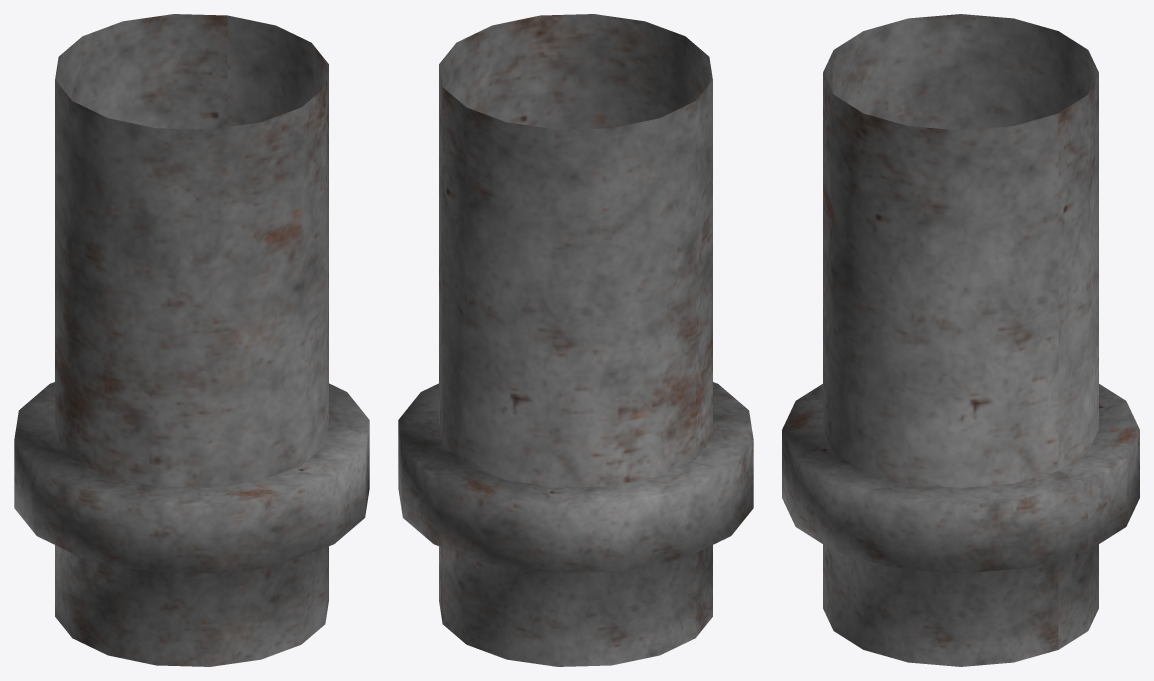
The model's file is grey_pipe1.fbx.
The picture shows the model from 3 angles, left to right: view 1: azimuth 30°, elevation 25°; view 2: azimuth 150°, elevation 25°; view 3: azimuth 270°, elevation 25°; orthographic projection.
Parts seen in each view (by area): view 1: grey_pipe1; view 2: grey_pipe1; view 3: grey_pipe1.
Boxes of the visible parts, x1,y1,x2,y2 form: grey_pipe1: (14, 14, 369, 666); grey_pipe1: (398, 14, 753, 666); grey_pipe1: (782, 14, 1139, 666).
Bounding box in the file's own units: 34.01 × 56.25 × 34.01.
Materials: 1 (1 with a texture image).
